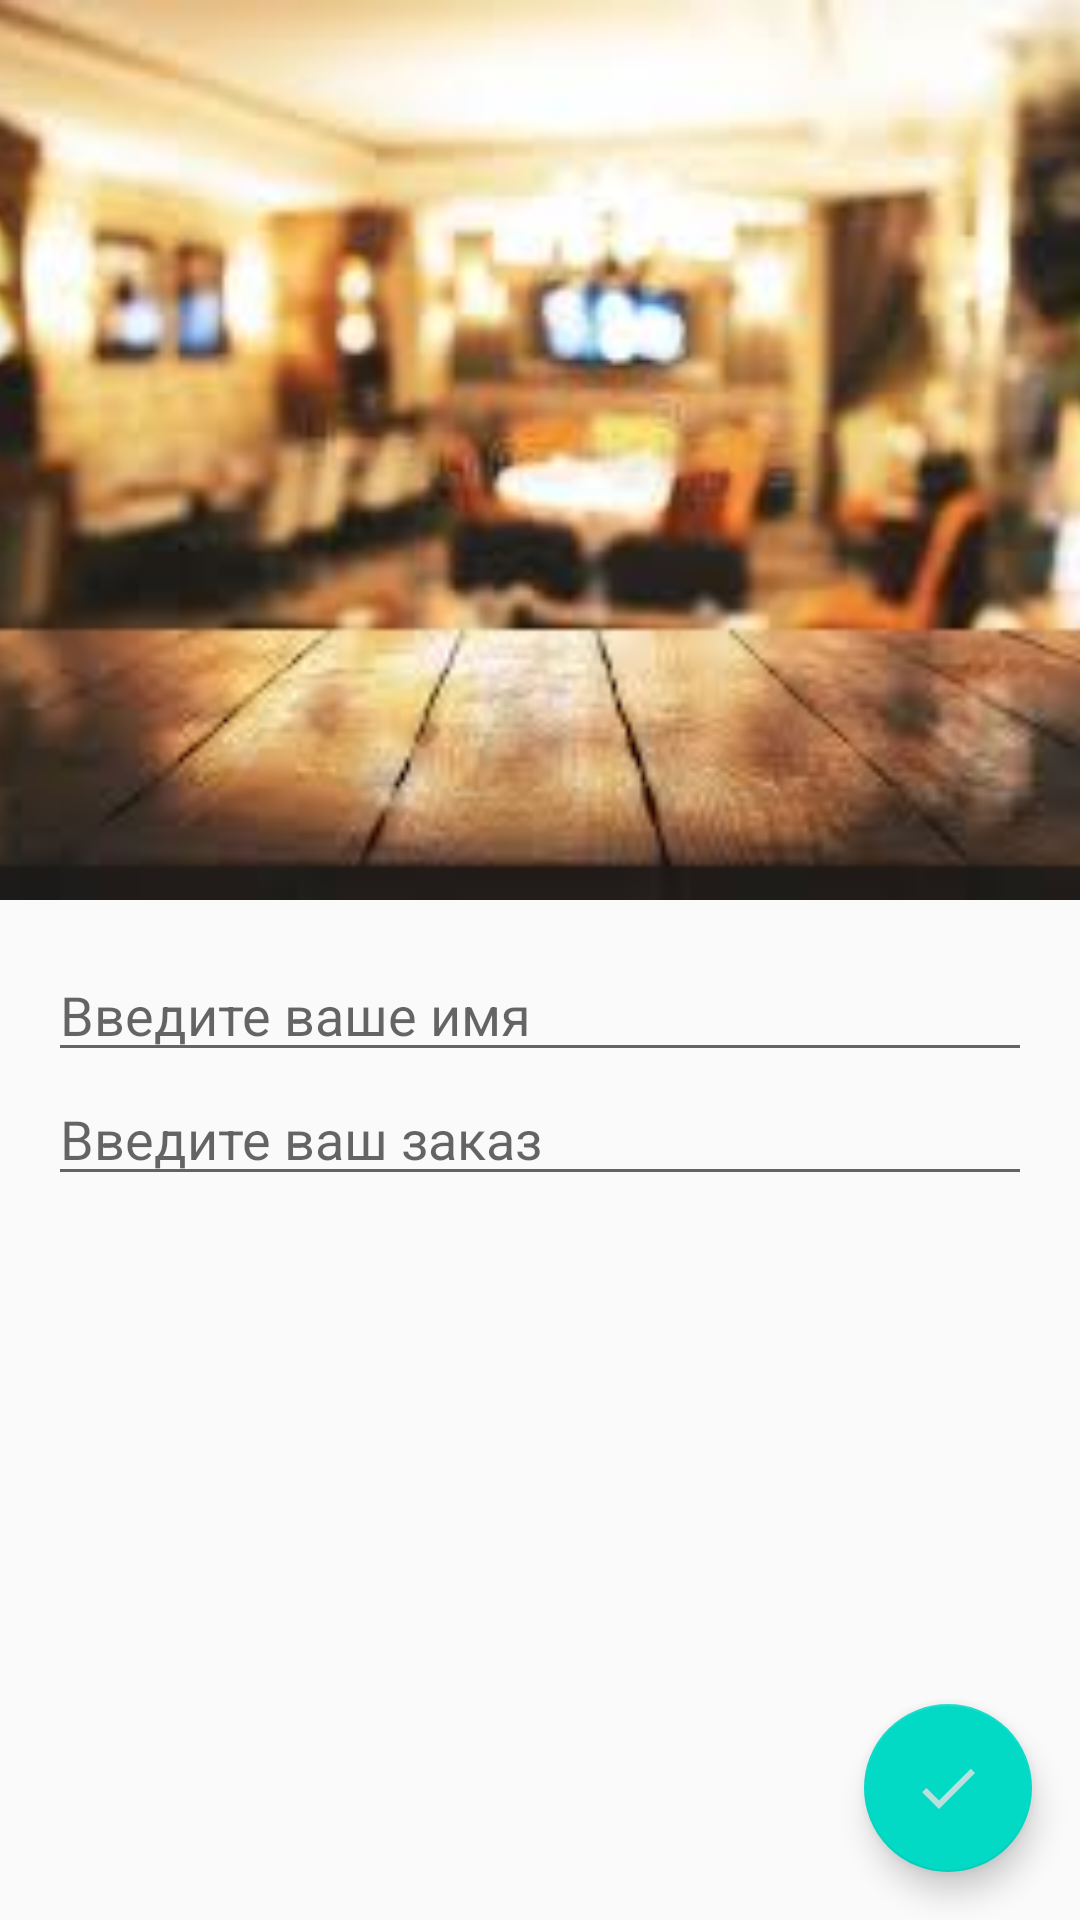

Icon click points for this 1080w x 1920h phone screenshot, format point (x, y):
fab: point (948, 1788)
